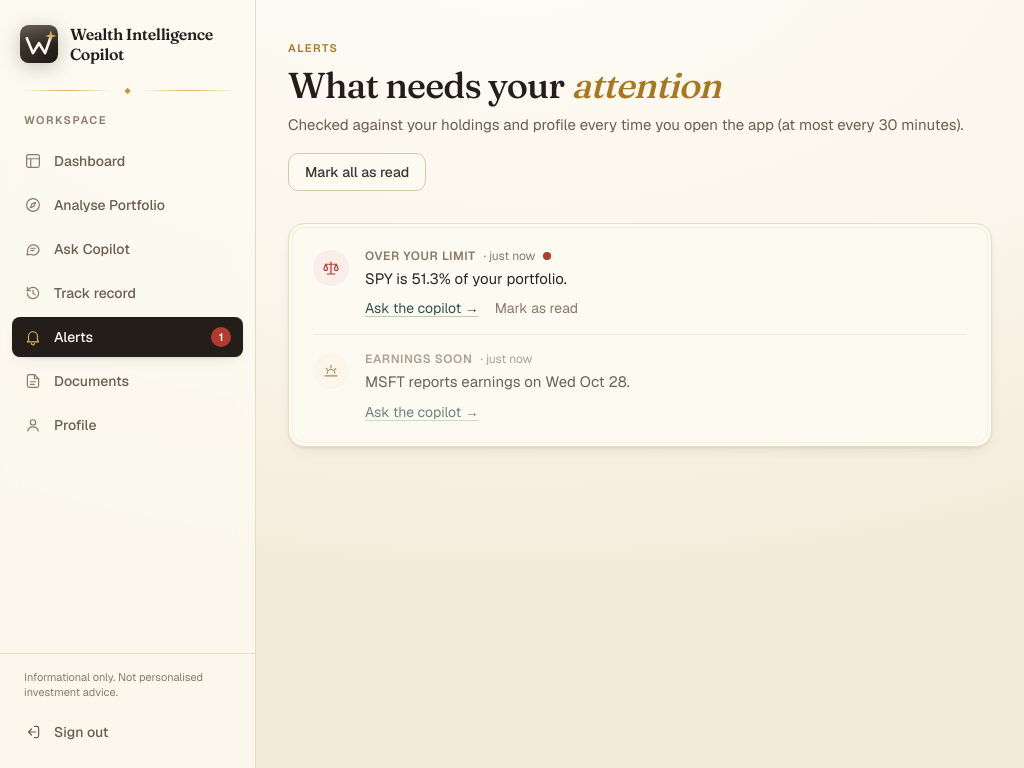
Test: Alerts page › marks everything read and clears the unread count
Expected: the text "SPY is 51.3% of your portfolio." is shown, [365,269,567,288]
Click the button "Mark all as read" at (357, 172), box [288,153,426,191]
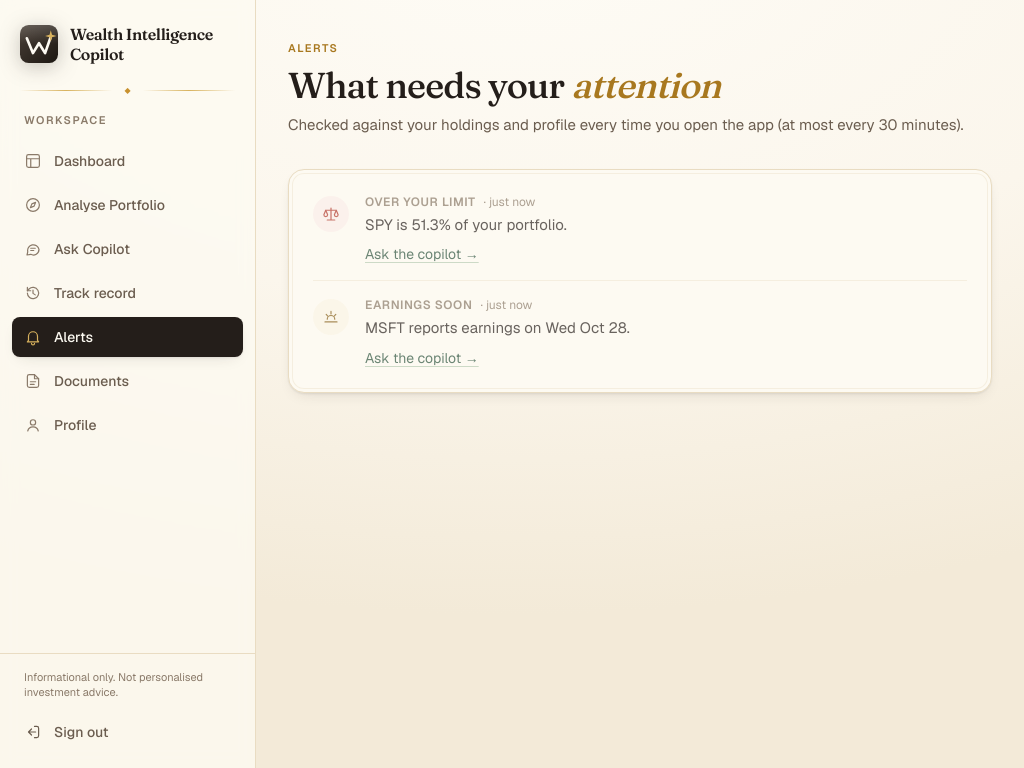
Expected: the button "Mark all as read" is gone
